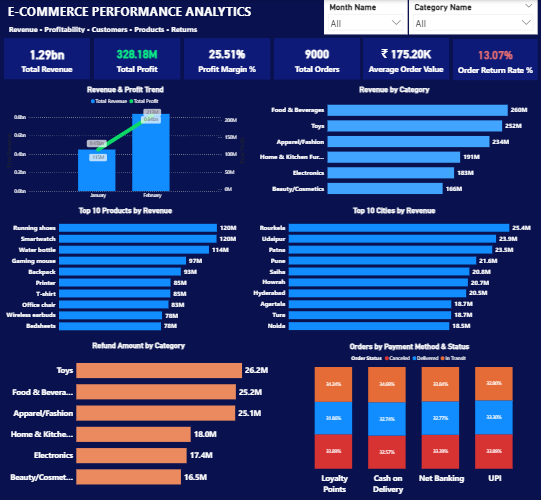

Layout of this report page (visuals, bound fields, positions):
{"tool":"powerbi","page":{"name":"Executive Overview","canvas":[1410,1300],"ordinal":0},"visuals":[{"type":"textbox","box":[0,1.3,1400.6,57.7],"z":0},{"type":"textbox","box":[0,56.6,1500,32.7],"z":1000},{"type":"card","fields":{"Values":["Measures (2).Total Revenue"]},"box":[12.9,100,222.9,107.1],"z":2000},{"type":"card","fields":{"Values":["Measures (2).Total Profit"]},"box":[246.2,100,223.8,107.5],"z":3000},{"type":"card","fields":{"Values":["Measures (2).Profit Margin%"]},"box":[480,100,223.8,107.5],"z":4000},{"type":"card","fields":{"Values":["Measures (2).Total Orders"]},"box":[713.8,100,223.8,107.5],"z":5000},{"type":"card","fields":{"Values":["Measures (2).Average Order Value"]},"box":[947.5,100,223.8,107.5],"z":6000},{"type":"card","fields":{"Values":["Measures (2).Return Rate"]},"box":[1180.6,100.6,220,107.3],"z":7000},{"type":"lineClusteredColumnComboChart","title":"Revenue & Profit Trend","fields":{"Category":["DimDate.Month Name"],"Y":["Measures (2).Total Revenue"],"Y2":["Measures (2).Total Profit"]},"box":[13.8,220,631.2,306.2],"z":8000},{"type":"clusteredBarChart","title":"Revenue by Category","fields":{"Category":["DimCategory.category_name"],"Y":["Measures (2).Total Revenue"]},"box":[654.7,220,745.9,305.9],"z":9000},{"type":"clusteredBarChart","title":"Top 10 Products by Revenue","fields":{"Category":["DimProduct.product_name"],"Y":["Measures (2).Total Revenue"]},"box":[14.3,535.7,631.4,340],"z":10000},{"type":"clusteredBarChart","title":"Top 10 Cities by Revenue","fields":{"Category":["DimCustomer.city"],"Y":["Measures (2).Total Revenue"]},"box":[656,536.6,744.6,339.4],"z":11000},{"type":"clusteredBarChart","title":"Refund Amount by Category","fields":{"Category":["DimCategory.category_name"],"Y":["Measures (2).Total Refund Amount"]},"box":[13.7,887,700.4,401.7],"z":12000},{"type":"hundredPercentStackedColumnChart","title":"Orders by Payment Method & Status","fields":{"Category":["FactOrders.payment_method"],"Series":["FactOrders.order_status"],"Y":["Measures (2).Total Orders"]},"box":[732.5,888.1,668.4,402.9],"z":13000},{"type":"slicer","fields":{"Values":["DimDate.Month Name"]},"box":[843.9,0,217.3,88.5],"z":14000},{"type":"slicer","fields":{"Values":["DimCategory.category_name"]},"box":[1066.6,0,334.1,88.5],"z":15000}]}

Visuals, with their boxes in screenshot pixels (x1, y1, x2, y2), scaled from the page's 1410x1300 canvas onto the 541x500 screenshot:
textbox: 0,0,537,23
textbox: 0,22,540,34
card - Measures (2).Total Revenue: 5,38,90,80
card - Measures (2).Total Profit: 94,38,180,80
card - Measures (2).Profit Margin%: 184,38,270,80
card - Measures (2).Total Orders: 274,38,360,80
card - Measures (2).Average Order Value: 364,38,449,80
card - Measures (2).Return Rate: 453,39,537,80
"Revenue & Profit Trend" lineClusteredColumnComboChart: 5,85,247,202
"Revenue by Category" clusteredBarChart: 251,85,537,202
"Top 10 Products by Revenue" clusteredBarChart: 5,206,248,337
"Top 10 Cities by Revenue" clusteredBarChart: 252,206,537,337
"Refund Amount by Category" clusteredBarChart: 5,341,274,496
"Orders by Payment Method & Status" hundredPercentStackedColumnChart: 281,342,538,497
slicer - DimDate.Month Name: 324,0,407,34
slicer - DimCategory.category_name: 409,0,537,34
